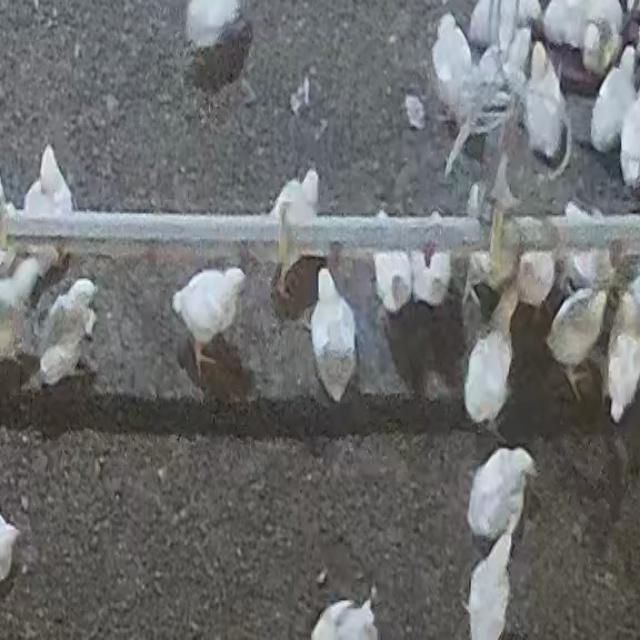chicken: (460, 279, 524, 441), (18, 279, 106, 396), (542, 273, 616, 405), (168, 265, 250, 380), (261, 165, 321, 296), (458, 448, 542, 538), (310, 264, 361, 408), (522, 41, 570, 167), (463, 528, 512, 639), (425, 9, 473, 110)
